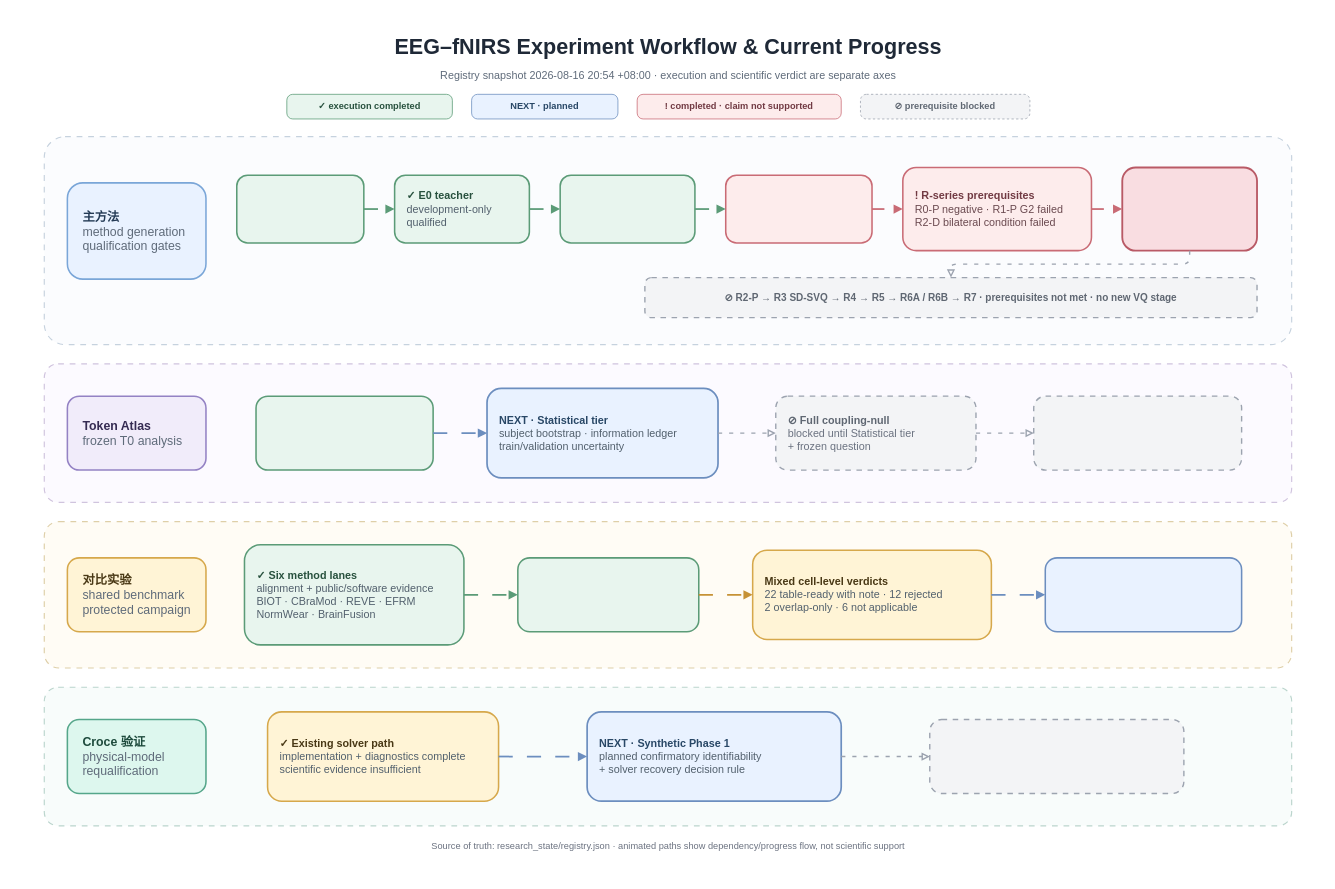
Image size: 1335x889. Some labels were removed from this diagram. The centre of each missing label's shape, as x and y in pixels:
! E2 semantic targets completed · 0 rows admitted retain T0: [798,208]
Reporting boundary paper tables use admitted cells + required notes only: [1143,594]
STOP method generation complete shared-driver claim rejected: [1189,208]
⊘ New-VQ Atlas no admitted new representation: [1137,432]
⊘ Real Phase 2 blocked until Synthetic Phase 1 satisfies the frozen rule: [1056,756]
✓ E1 K128 3-seed health passed: [627,208]
✓ Formal campaign 540 / 540 jobs complete 0 technical failures: [608,594]
✓ T0 Core completed · descriptive development-only: [344,432]
✓ 数据合同 completed · engineering: [300,208]
